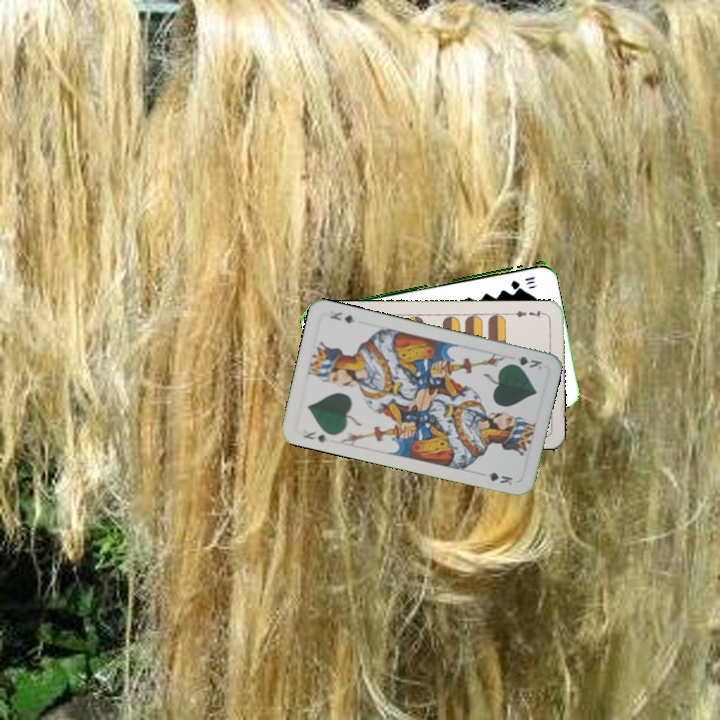E7: (508, 306, 548, 320)
G10: (507, 273, 537, 290)
GK: (505, 352, 545, 372), (299, 427, 329, 445)
